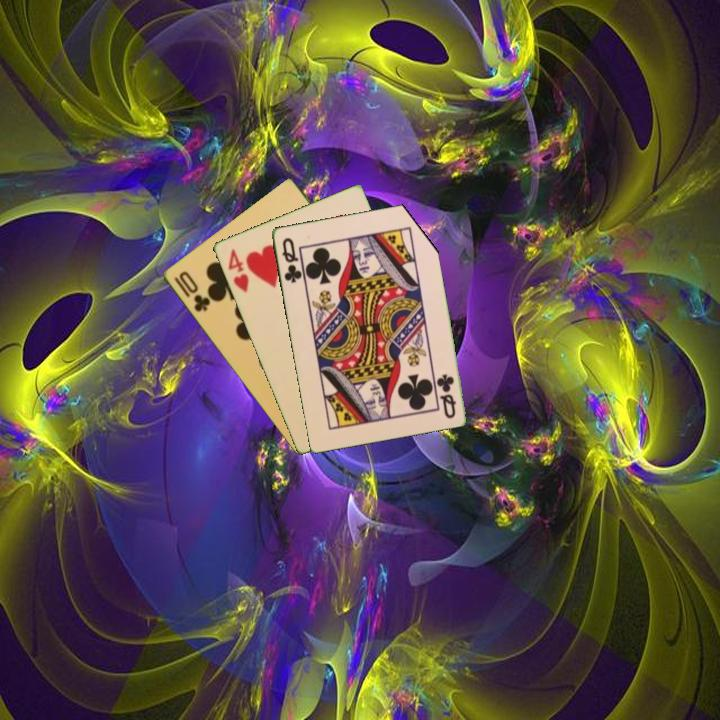10c: (170, 267, 213, 315)
4h: (224, 245, 251, 295)
Qc: (278, 234, 304, 286), (434, 370, 458, 421)
